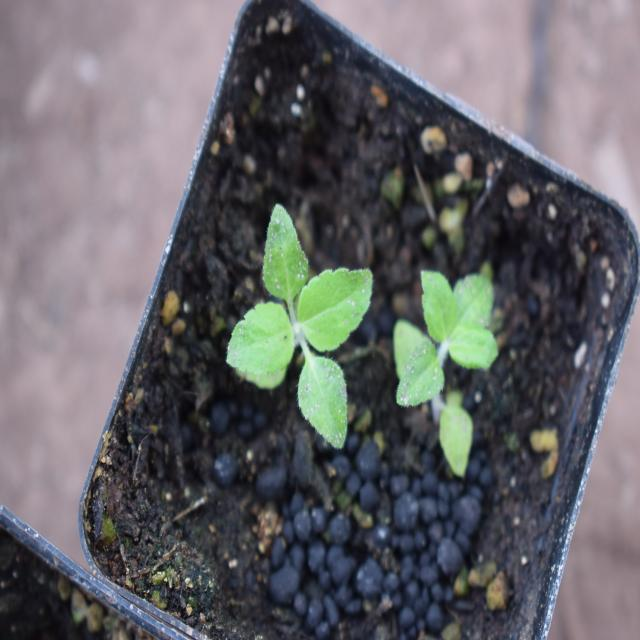billygoat_weed: (229, 200, 378, 476), (396, 242, 507, 474)
